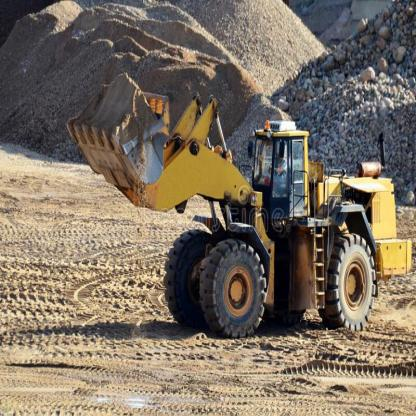bull_dozer/loader/grader: (63, 62, 414, 338)
